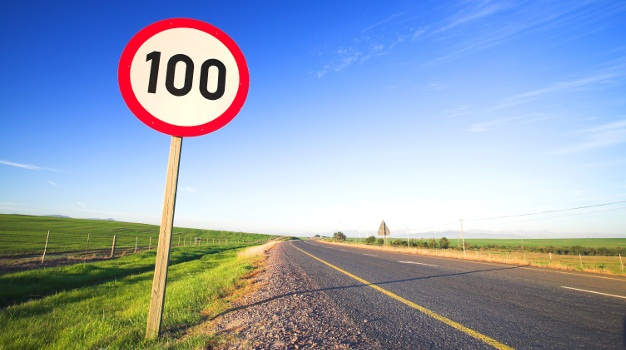Speed_limit_100km: (117, 17, 250, 136)
